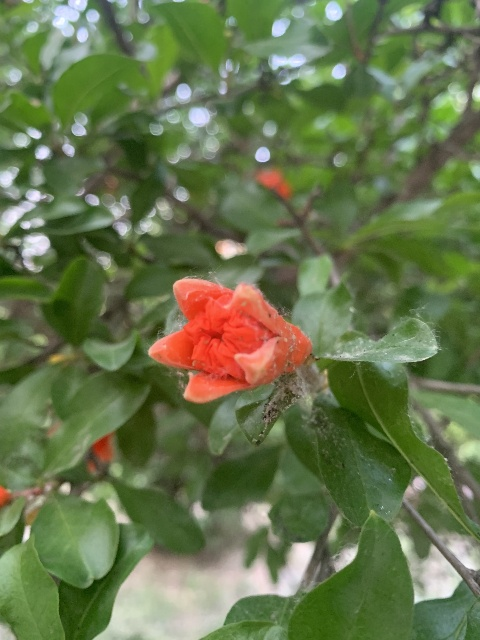flower: (148, 278, 313, 403)
